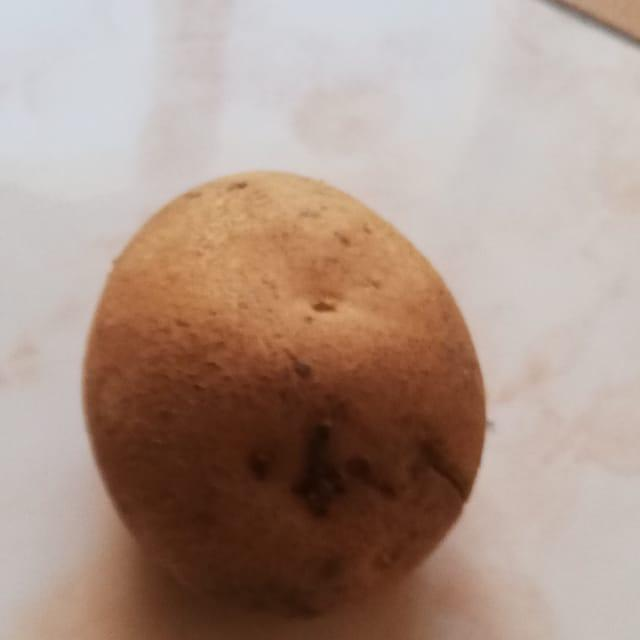potato: (62, 146, 499, 633)
